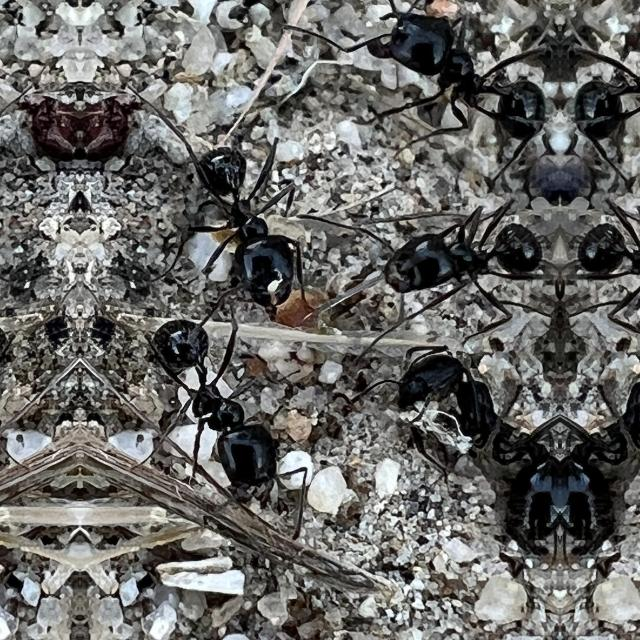Messor: (372, 306, 560, 576), (125, 305, 292, 505), (374, 2, 560, 156), (342, 186, 560, 316), (180, 144, 320, 312), (560, 306, 640, 575), (560, 2, 640, 156), (560, 185, 640, 316), (0, 305, 35, 505), (80, 79, 130, 185), (30, 79, 80, 185)
